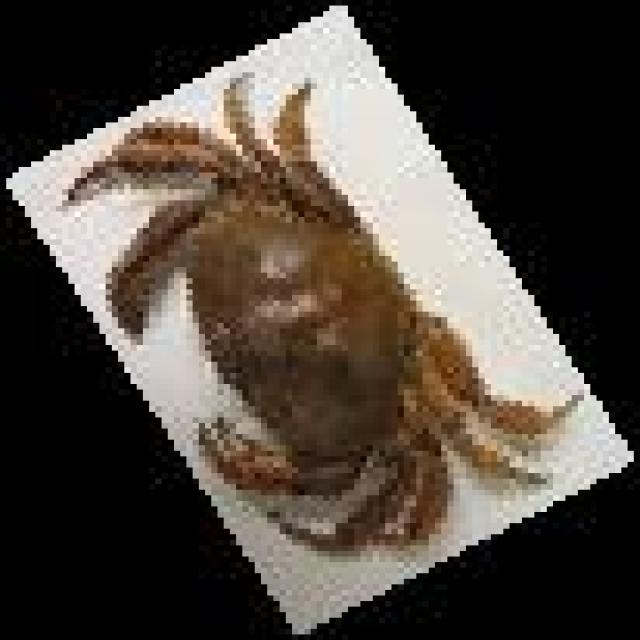Native Rock crab: (62, 72, 572, 545)
